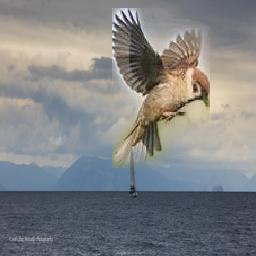Sparrow: (112, 8, 210, 168)
